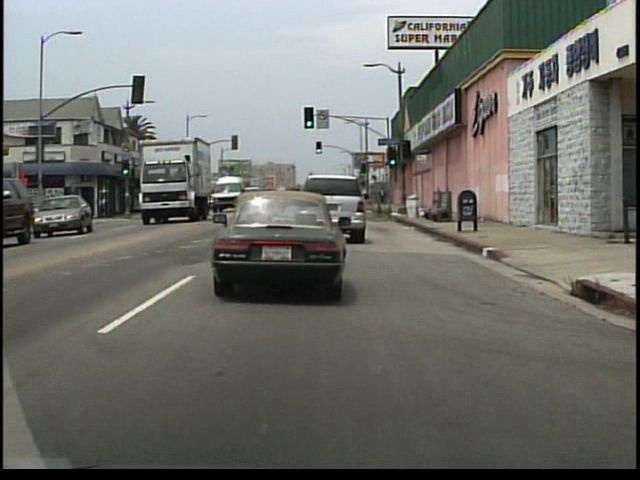person: (50, 197, 62, 230), (377, 188, 387, 208)
